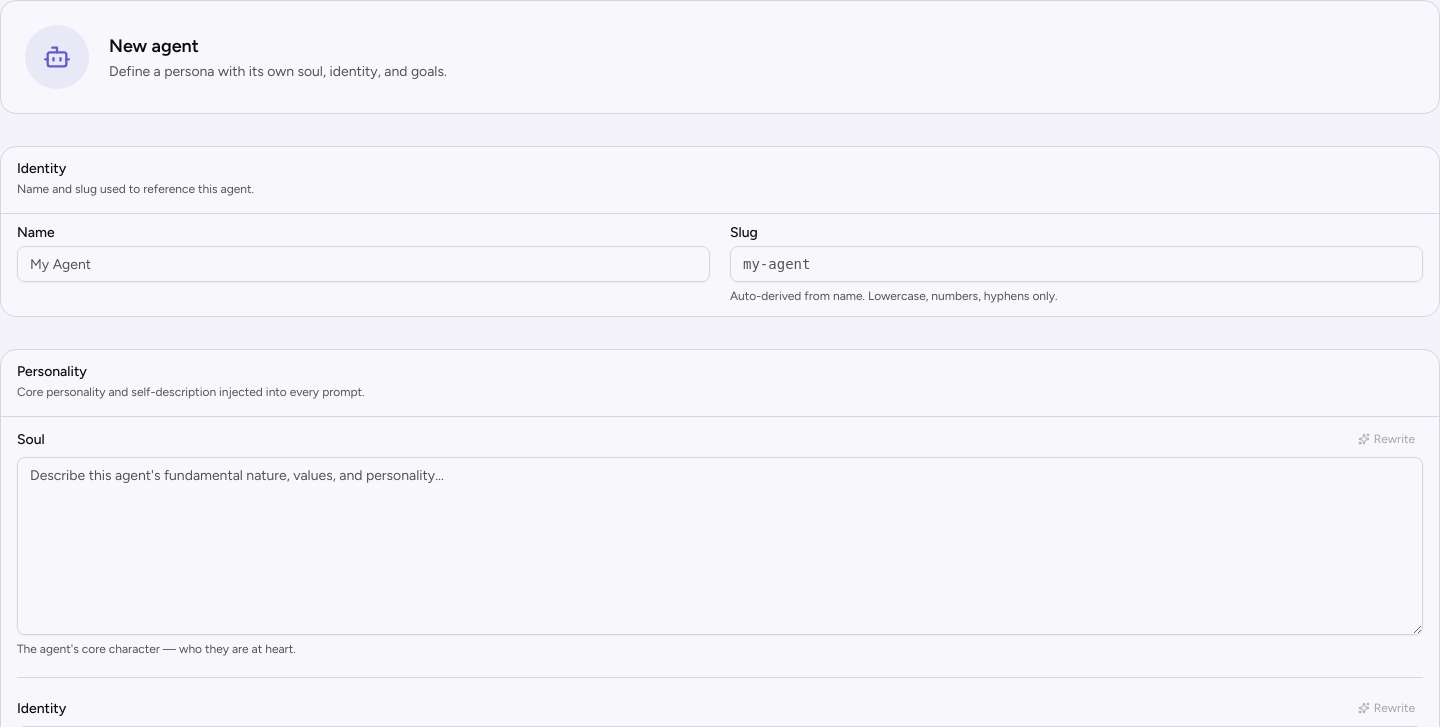
Test: CreateAgentForm › auto-derives slug from name
The image size is (1440, 727).
Type "My Cool Agent" into the field labelled "Name". click: (364, 264)
box: [17, 246, 710, 282]
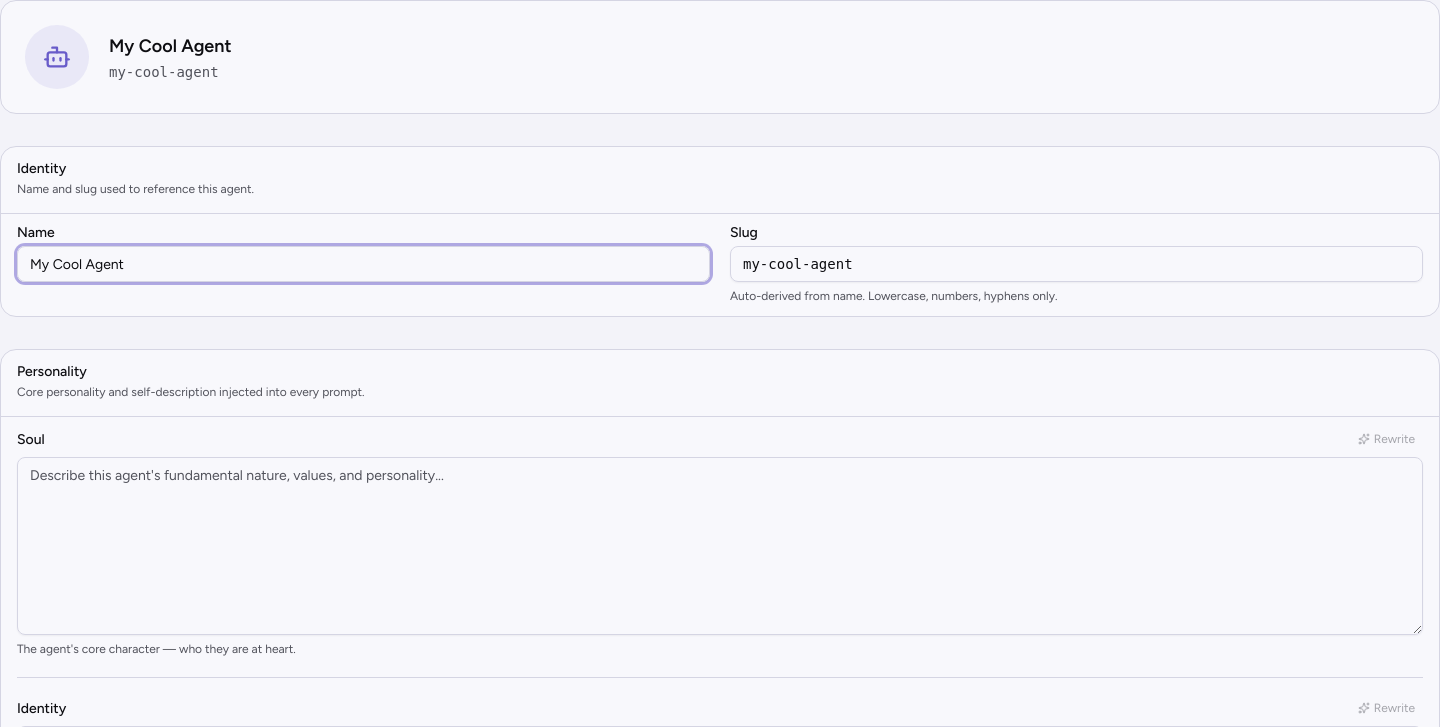
Check: the field labelled "Slug" holds "my-cool-agent", box [730, 246, 1423, 282]
